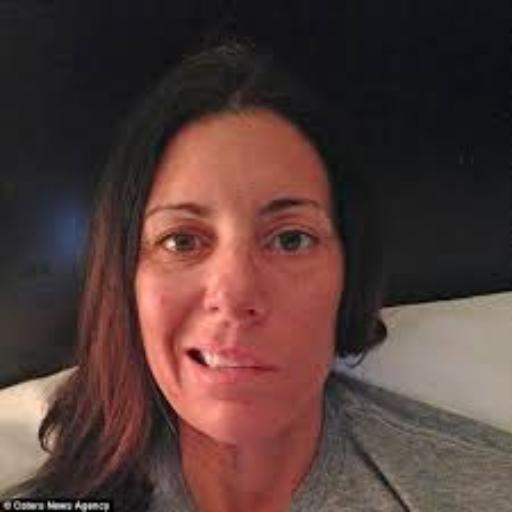left_eye: (268, 230, 323, 256)
left_lip_corner: (265, 359, 286, 380)
right_eye: (156, 232, 213, 258)
right_lip_corner: (180, 343, 202, 368)
